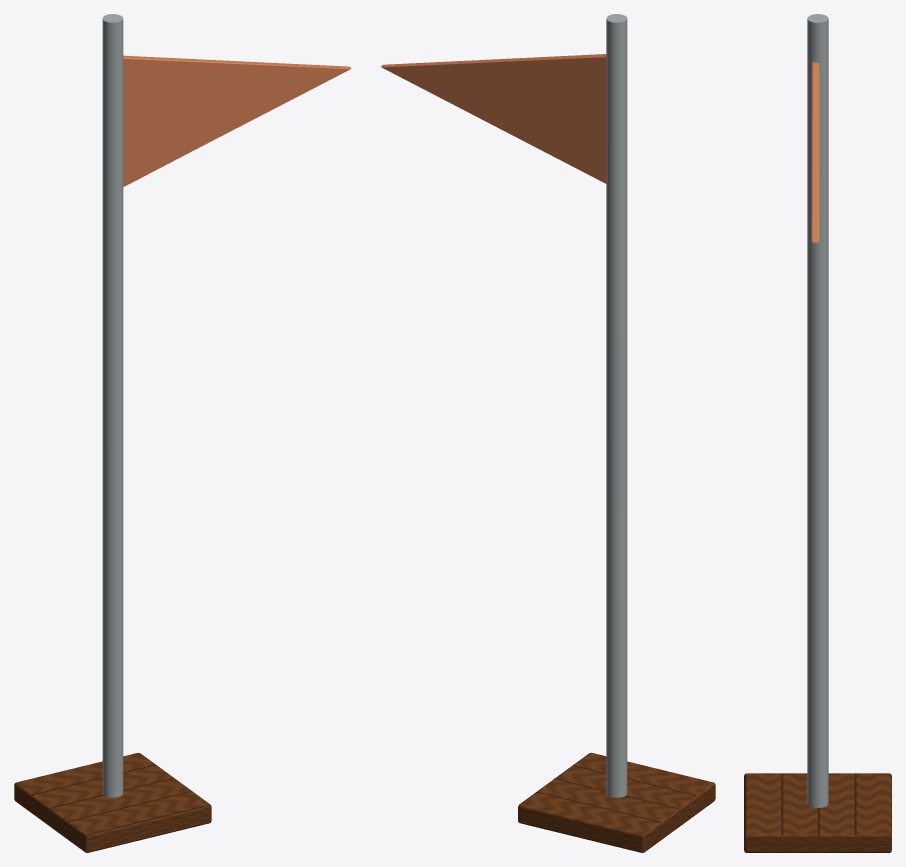
Rendered from wilderness-survival-camp-signal-pennant-c7b50c55__21971.glb.
3 renders of one model, left to right at view 1: azimuth 30°, elevation 25°; view 2: azimuth 150°, elevation 25°; view 3: azimuth 270°, elevation 25°, orthographic.
Parts seen in each view (by area): view 1: signal-pennant; view 2: signal-pennant; view 3: signal-pennant.
Boxes of the visible parts, x1,y1,x2,y2 form: signal-pennant: (14, 14, 351, 852); signal-pennant: (380, 14, 715, 852); signal-pennant: (744, 14, 891, 852).
Size of the model in its own units: 0.8292 by 2.1 by 0.35.
3 materials, 1 textured.
